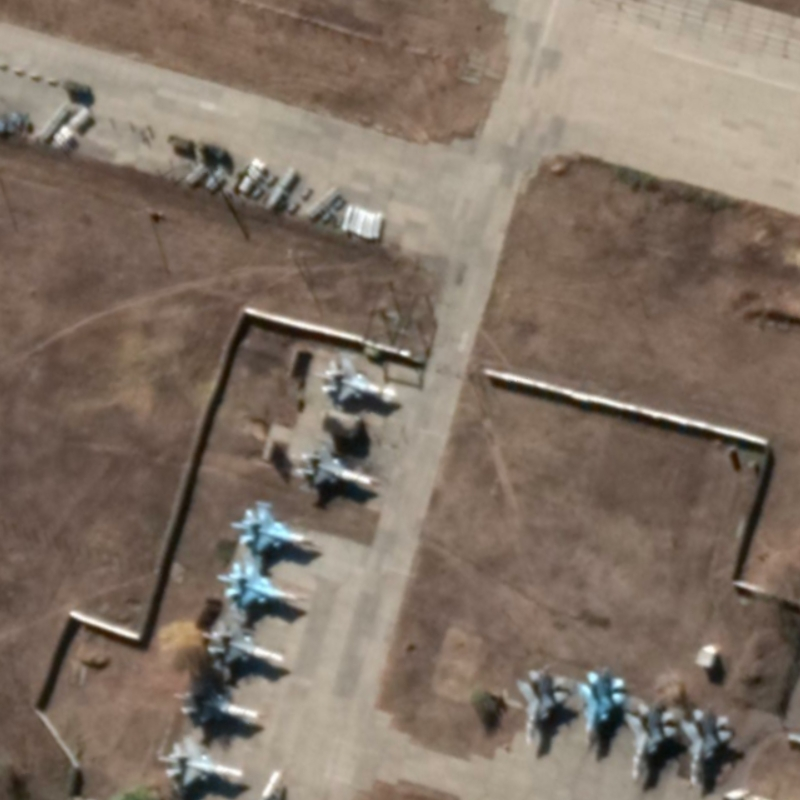A19: (227, 496, 319, 557), (623, 692, 683, 784), (155, 733, 247, 792), (292, 434, 385, 492), (574, 662, 630, 758), (213, 559, 310, 612), (681, 702, 738, 792), (512, 663, 570, 749), (177, 679, 265, 732), (197, 618, 286, 670), (320, 354, 401, 405)
